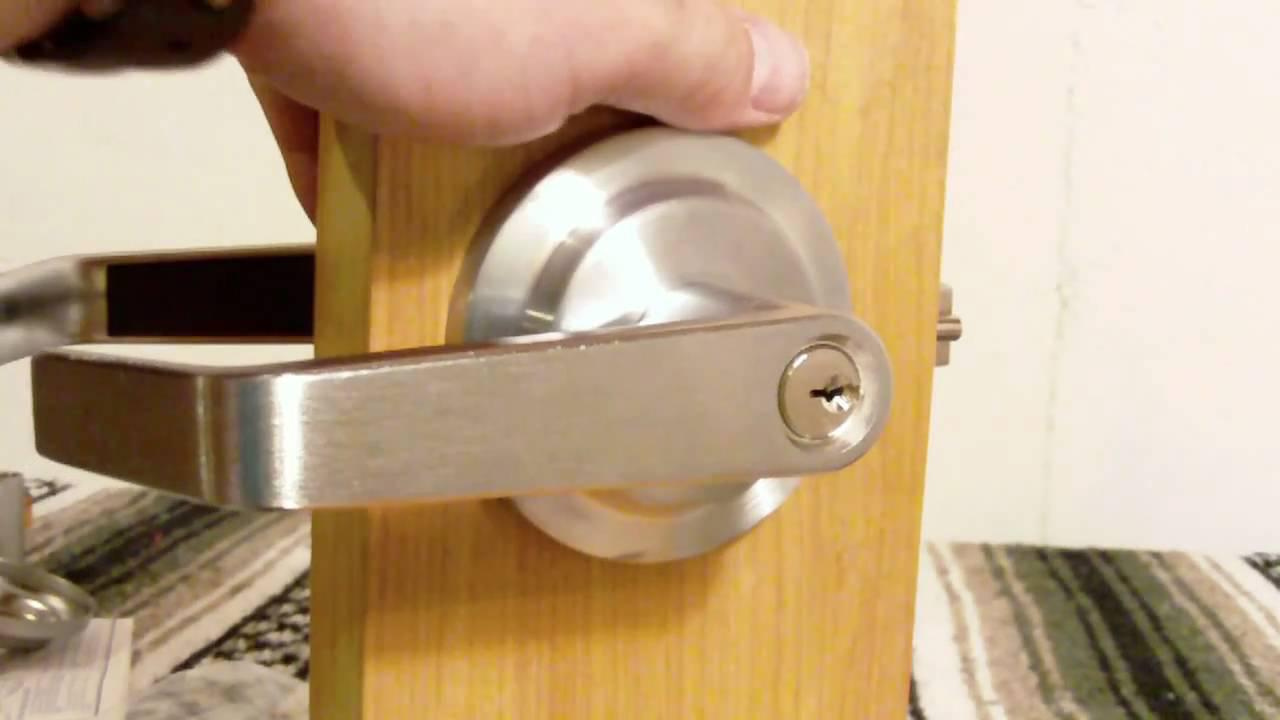doorhandle: (11, 220, 996, 583)
